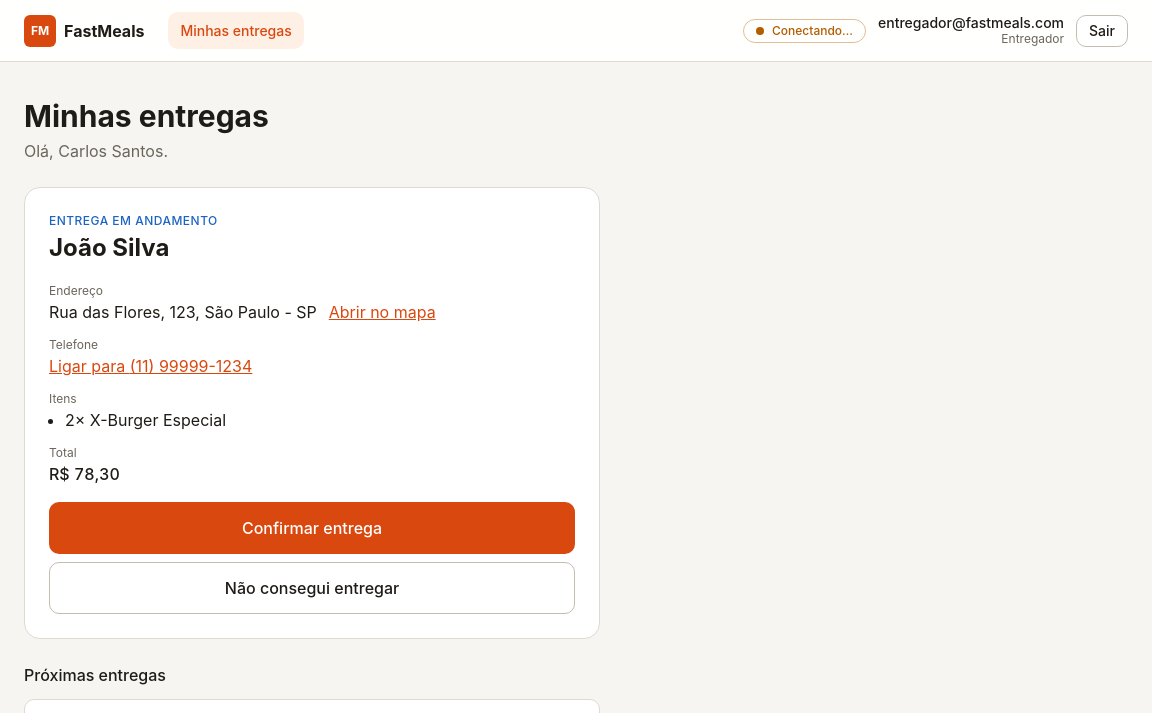
Scenario: Tela do entregador › não conseguiu entregar: relata o motivo e a entrega mostra que espera o gestor
This screenshot has width=1152, height=713.
Click the button "Não consegui entregar" at (312, 588), box [49, 562, 575, 614]
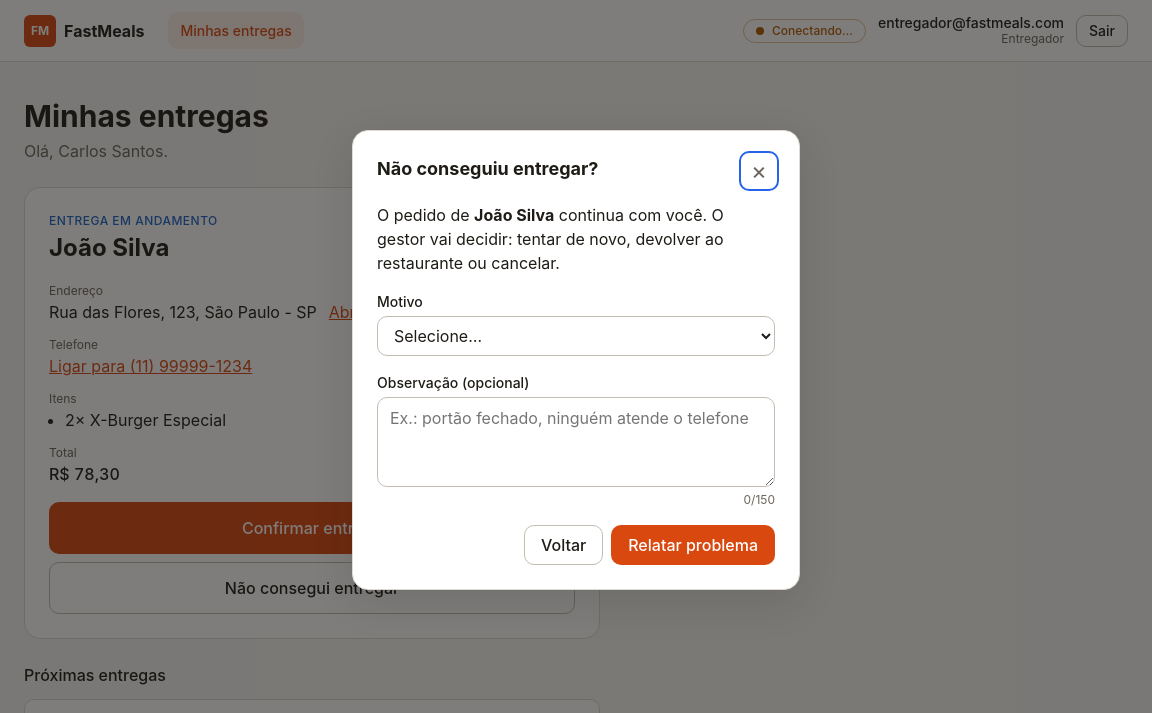
Select "Outro motivo" in the dropdown labelled "Motivo" at (576, 336), box [377, 316, 775, 356]
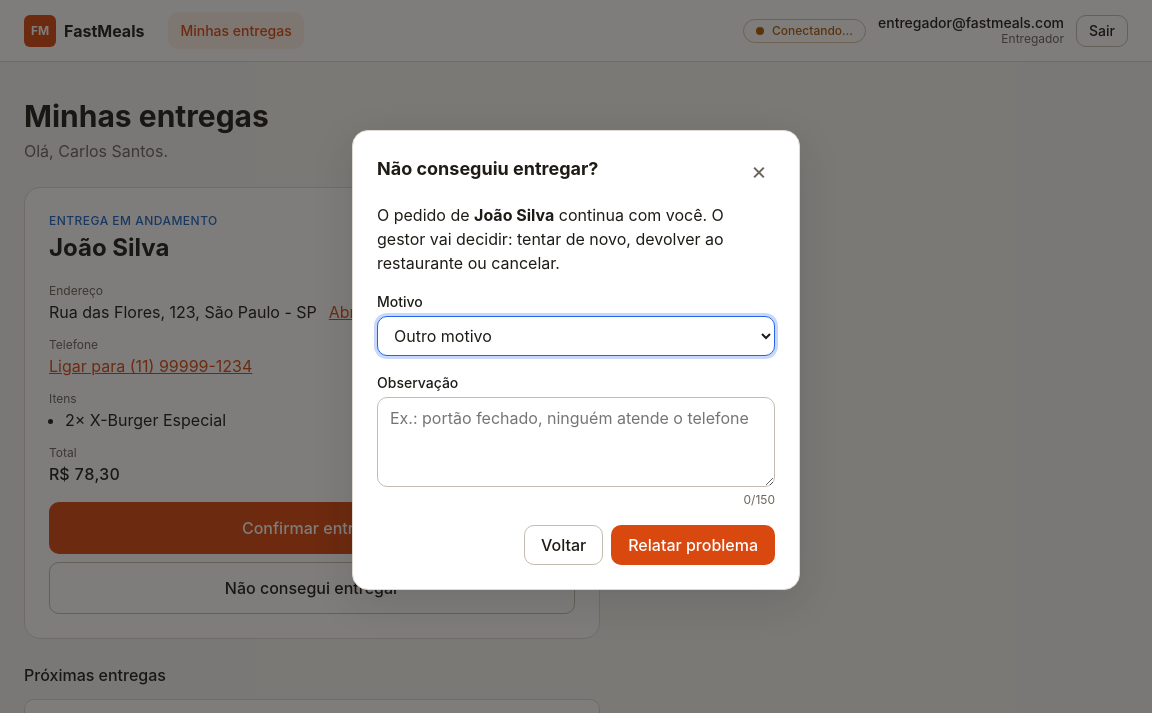
Click the button "Relatar problema" at (693, 545), box [611, 525, 775, 565]
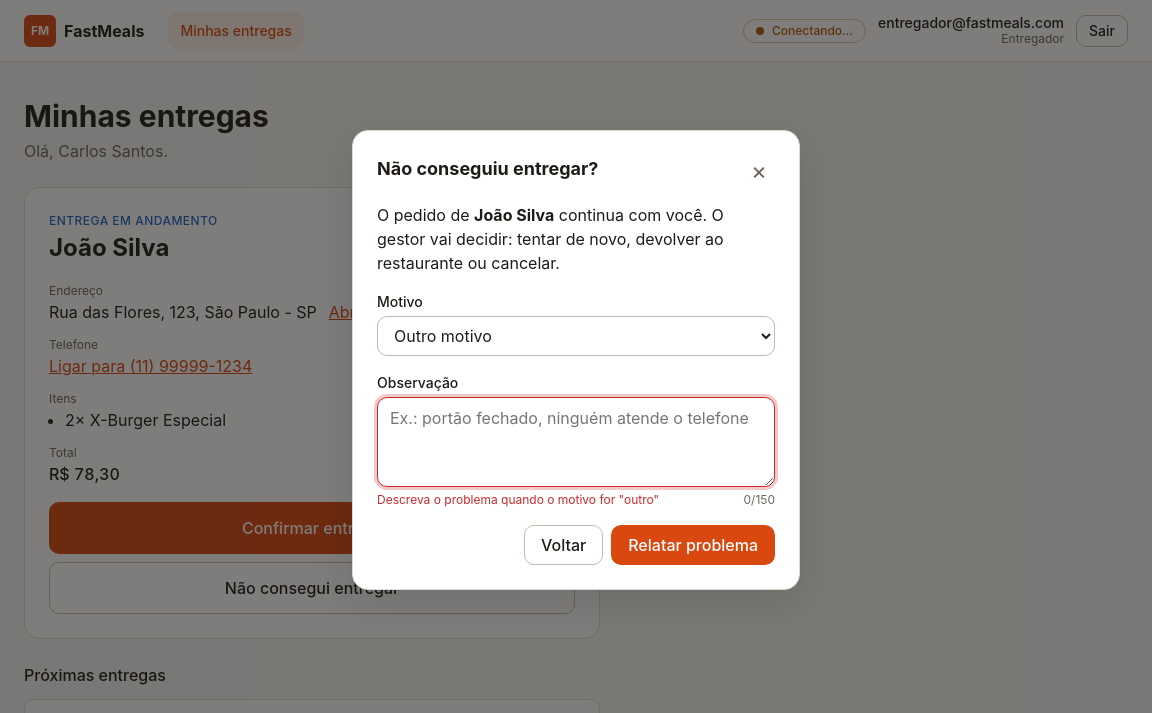
Select "Cliente ausente" in the dropdown labelled "Motivo" at (576, 336), box [377, 316, 775, 356]
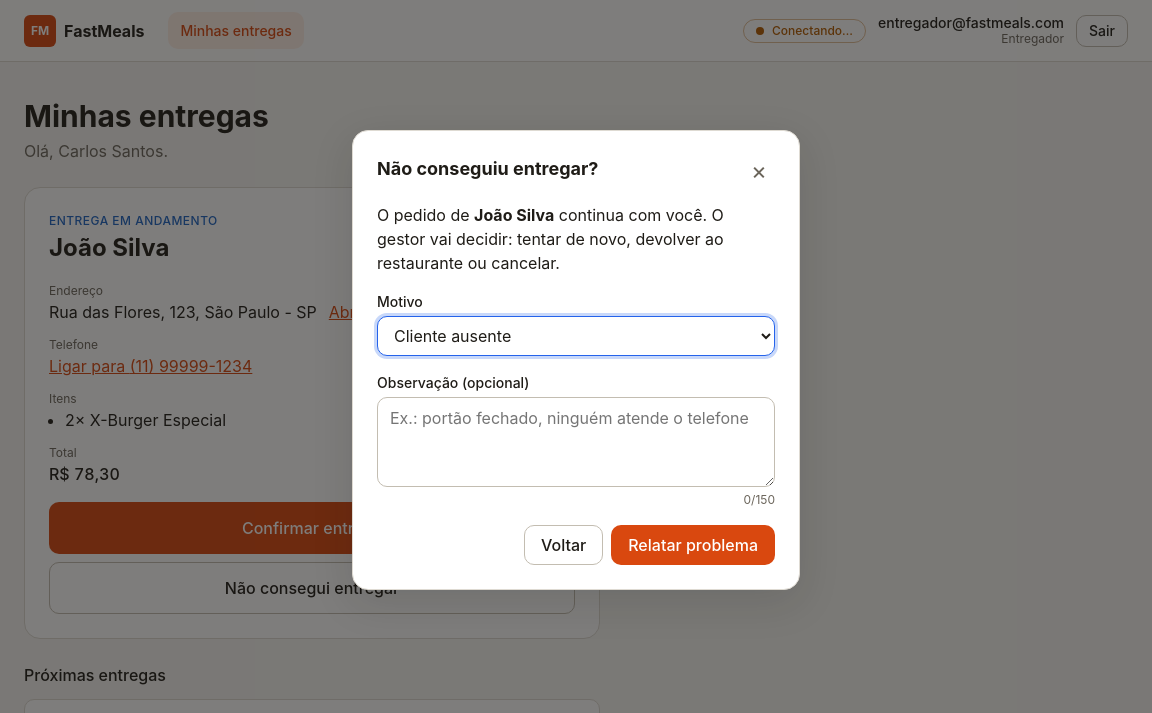
Type "Ninguém atende" into the text box labelled "Observação (opcional)" at (576, 442), box [377, 397, 775, 487]
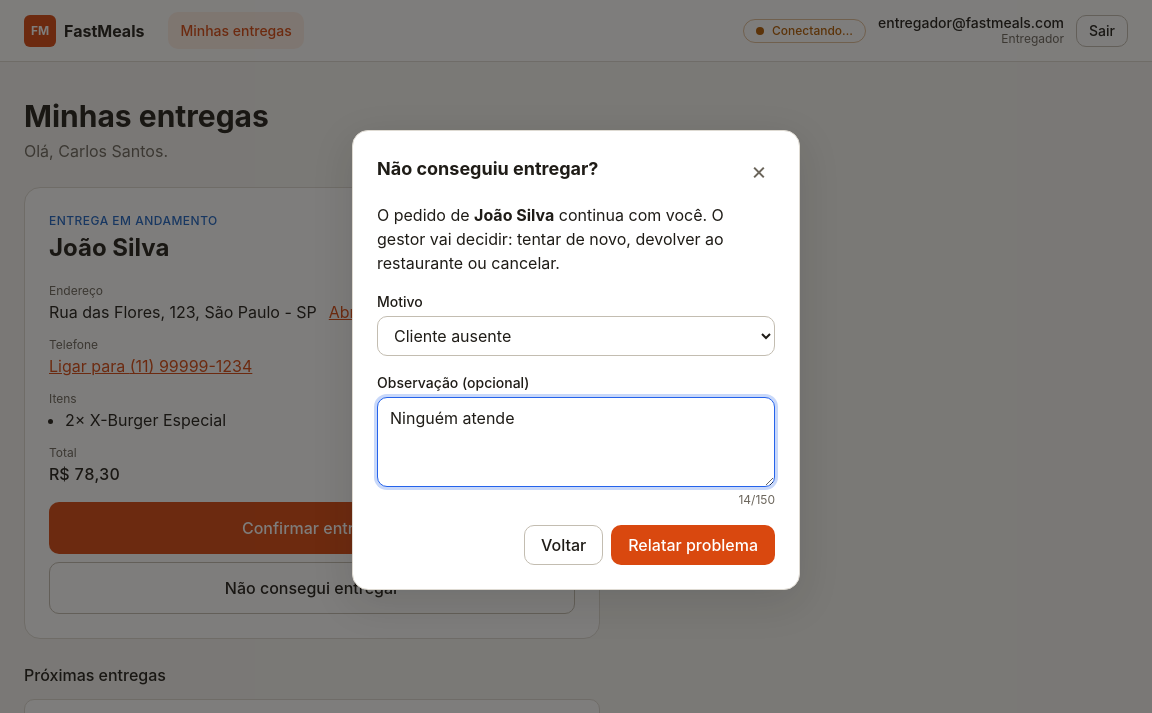
Click the button "Relatar problema" at (693, 545), box [611, 525, 775, 565]
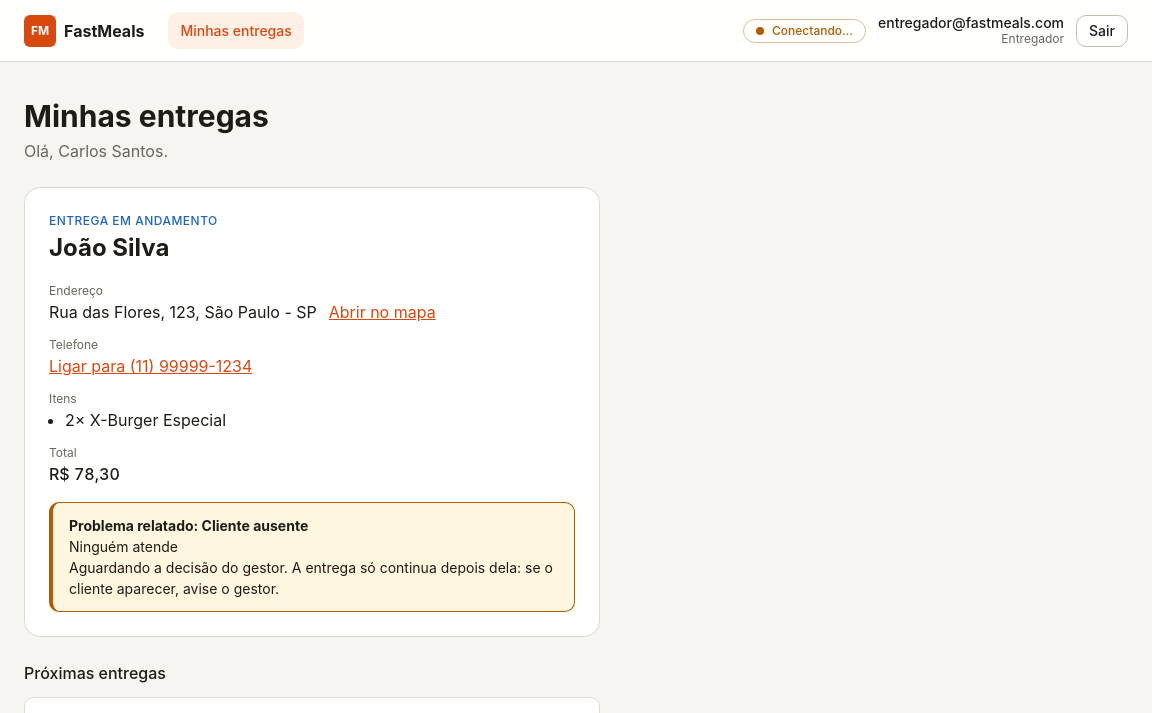
Expected: the text "Problema relatado: Cliente ausente" is shown, [69, 517, 308, 534]
Expected: the element "João Silva" shows "Ninguém atende", [69, 538, 178, 555]
Expected: the button "Não consegui entregar" is gone
